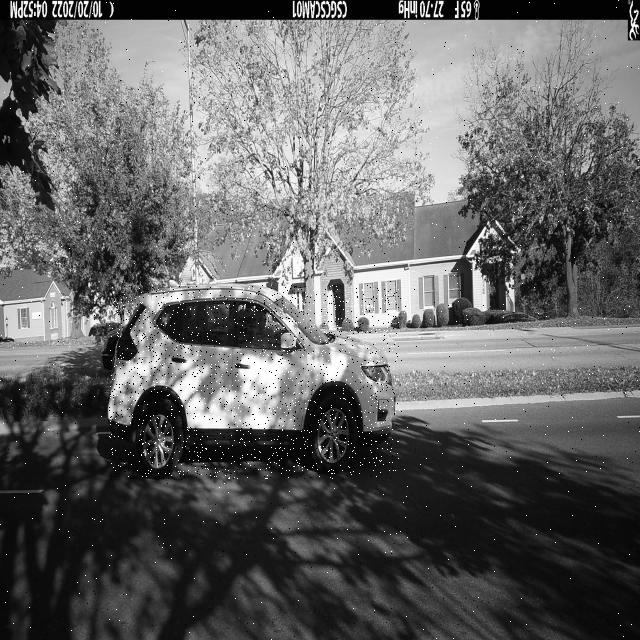SUV: (109, 285, 399, 479)
